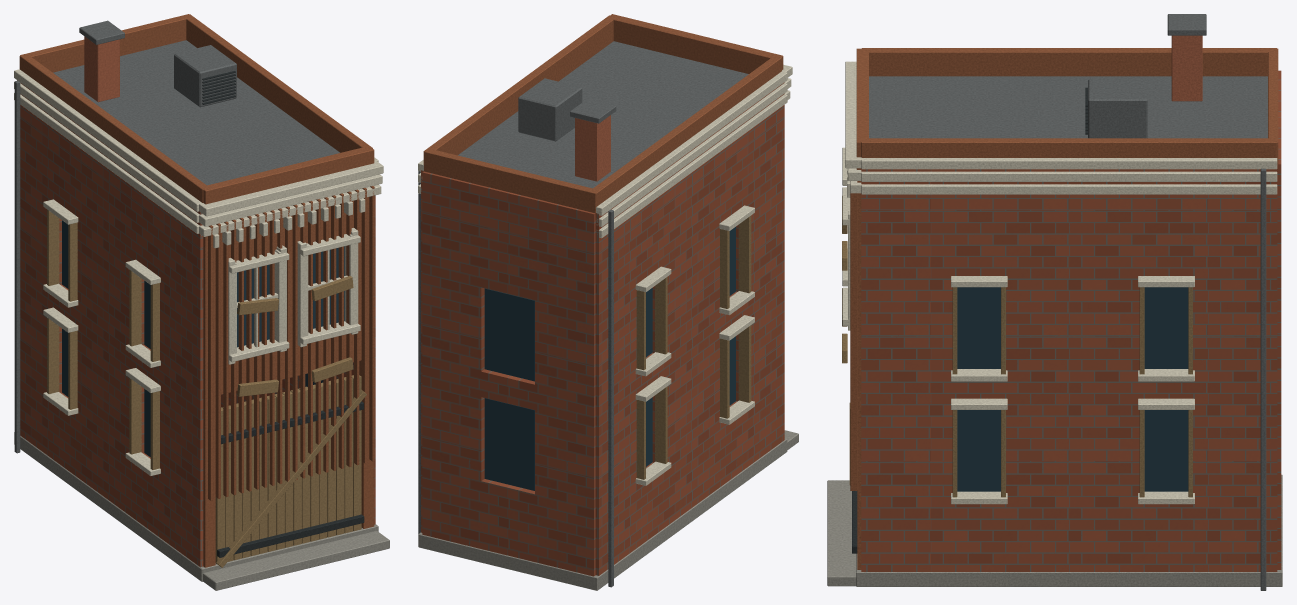
File: CLSTGA20_lod1.glb
The picture shows the model from 3 angles, left to right: view 1: azimuth 30°, elevation 25°; view 2: azimuth 150°, elevation 25°; view 3: azimuth 270°, elevation 25°; orthographic projection. The views are drawn at different scales.
Parts seen in each view (by area): view 1: CLSTGA20_LOD1; view 2: CLSTGA20_LOD1; view 3: CLSTGA20_LOD1.
Part boxes in pixels (left/top/right/bottom): CLSTGA20_LOD1: left=14, top=14, right=389, bottom=590; CLSTGA20_LOD1: left=418, top=14, right=798, bottom=590; CLSTGA20_LOD1: left=827, top=14, right=1282, bottom=590.
Size of the model in its own units: 3.71 by 7.85 by 6.57.
Materials: 10 (8 with a texture image).
